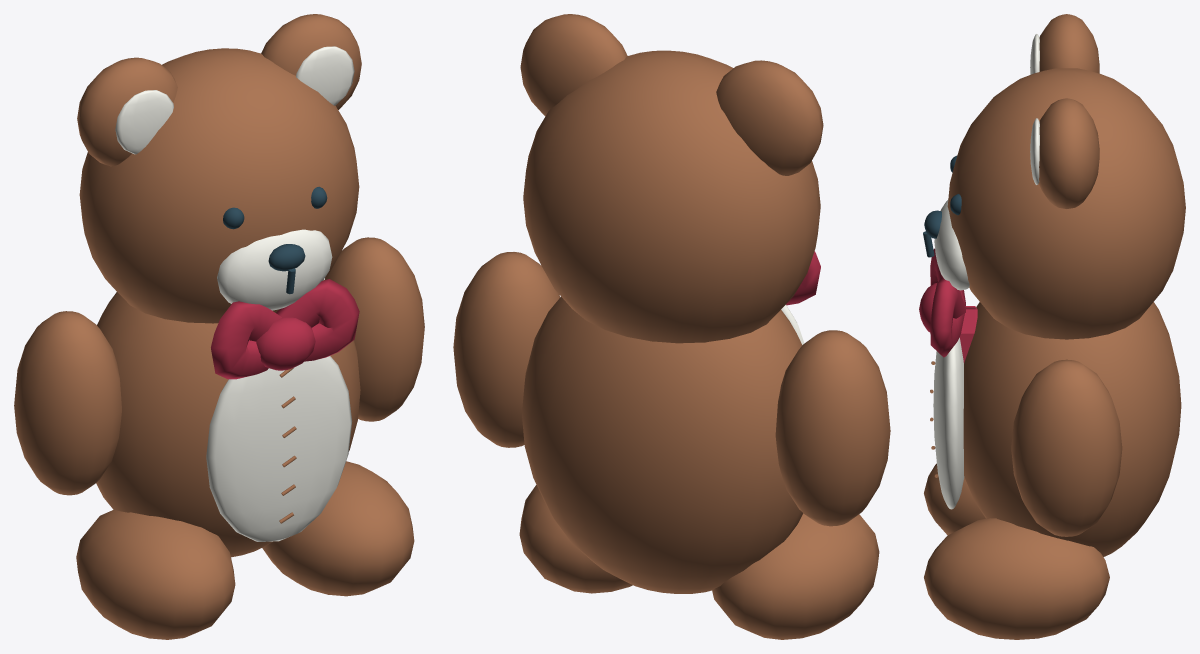
Rendered from storybook-christmas-market-stitched-teddy-bear-2f2f23bb.glb.
The picture shows the model from 3 angles, left to right: view 1: azimuth 30°, elevation 25°; view 2: azimuth 150°, elevation 25°; view 3: azimuth 270°, elevation 25°; orthographic projection. The views are drawn at different scales.
Parts seen in each view (by area): view 1: stitched-teddy-bear; view 2: stitched-teddy-bear; view 3: stitched-teddy-bear.
Boxes of the visible parts, left/top/right/bottom form: stitched-teddy-bear: left=14, top=14, right=424, bottom=639; stitched-teddy-bear: left=453, top=14, right=890, bottom=639; stitched-teddy-bear: left=919, top=14, right=1185, bottom=639.
Size of the model in its own units: 0.708 by 0.9377 by 0.4283.
